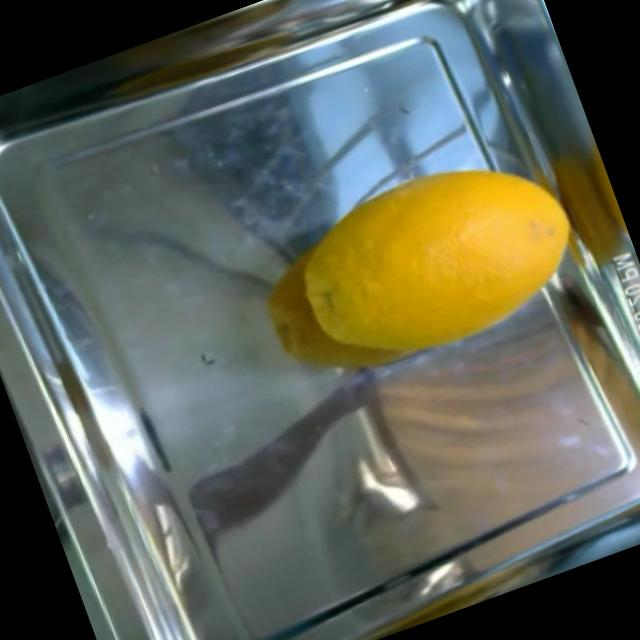Fruit: (342, 122, 606, 376)
